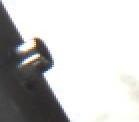screw: (7, 37, 55, 84)
